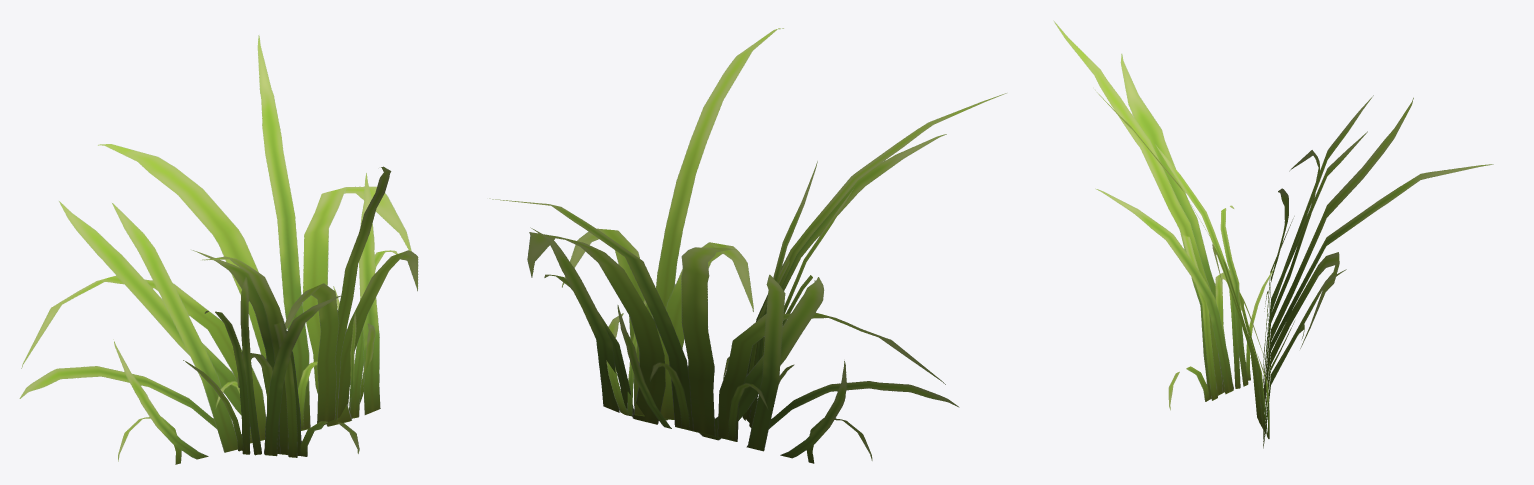
Rendered from Grass_4.fbx.
3 views of the same model, side by side, from view 1: azimuth 30°, elevation 25°; view 2: azimuth 150°, elevation 25°; view 3: azimuth 270°, elevation 25° (orthographic). The views are drawn at different scales.
Parts seen in each view (by area): view 1: T_Low16; view 2: T_Low16; view 3: T_Low16.
Part boxes in pixels (x1,y1,x2,y2): T_Low16: [19, 35, 418, 464]; T_Low16: [489, 28, 1006, 463]; T_Low16: [1053, 20, 1493, 448].
Size of the model in its own units: 46.36 by 36.35 by 46.22.
